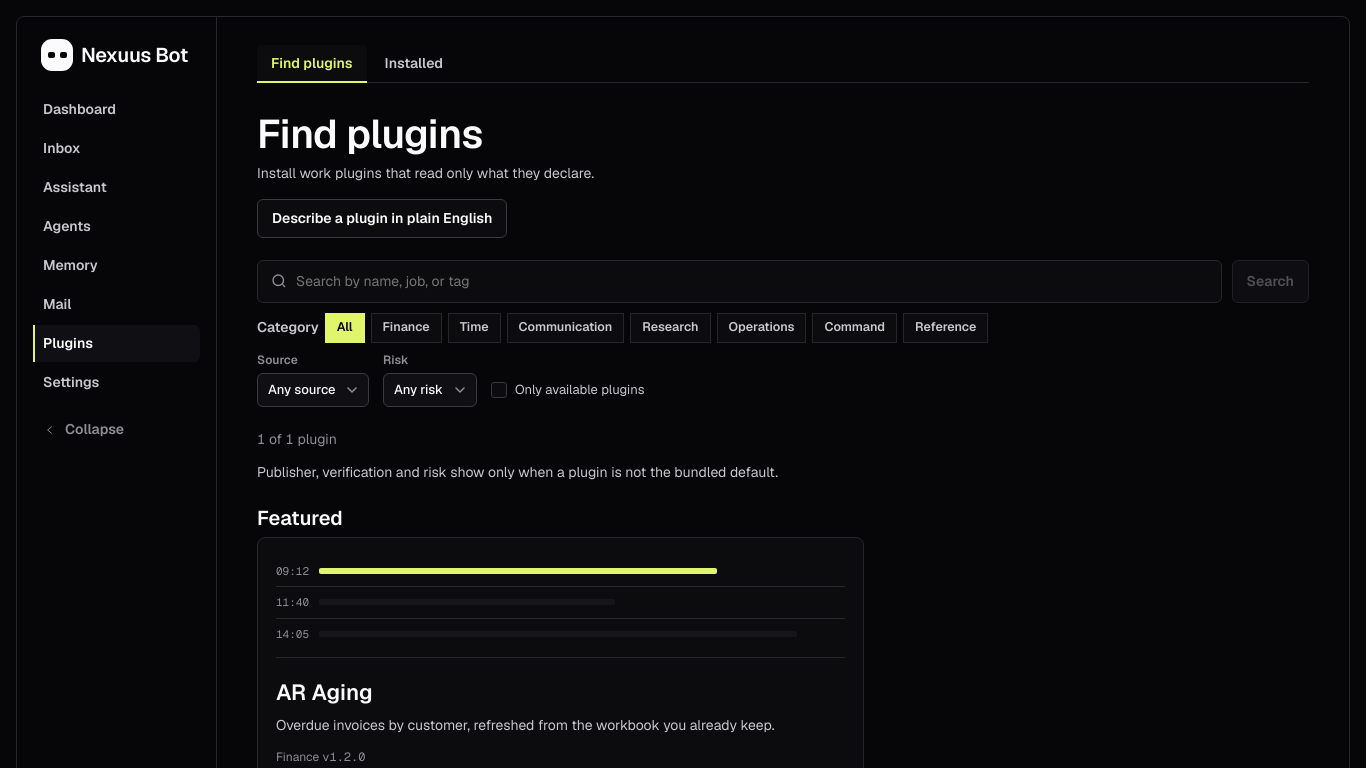
Scenario: the marketplace says every wait (spec 027) › disables Search and names it while the searched catalog reloads
Later steps or results of the test are not shown.
Expected: the text "AR Aging" is shown, [276,678,373,706]
Type "aging" into the search field named "Search plugins" at (752, 281), box [296,261,1209,302]
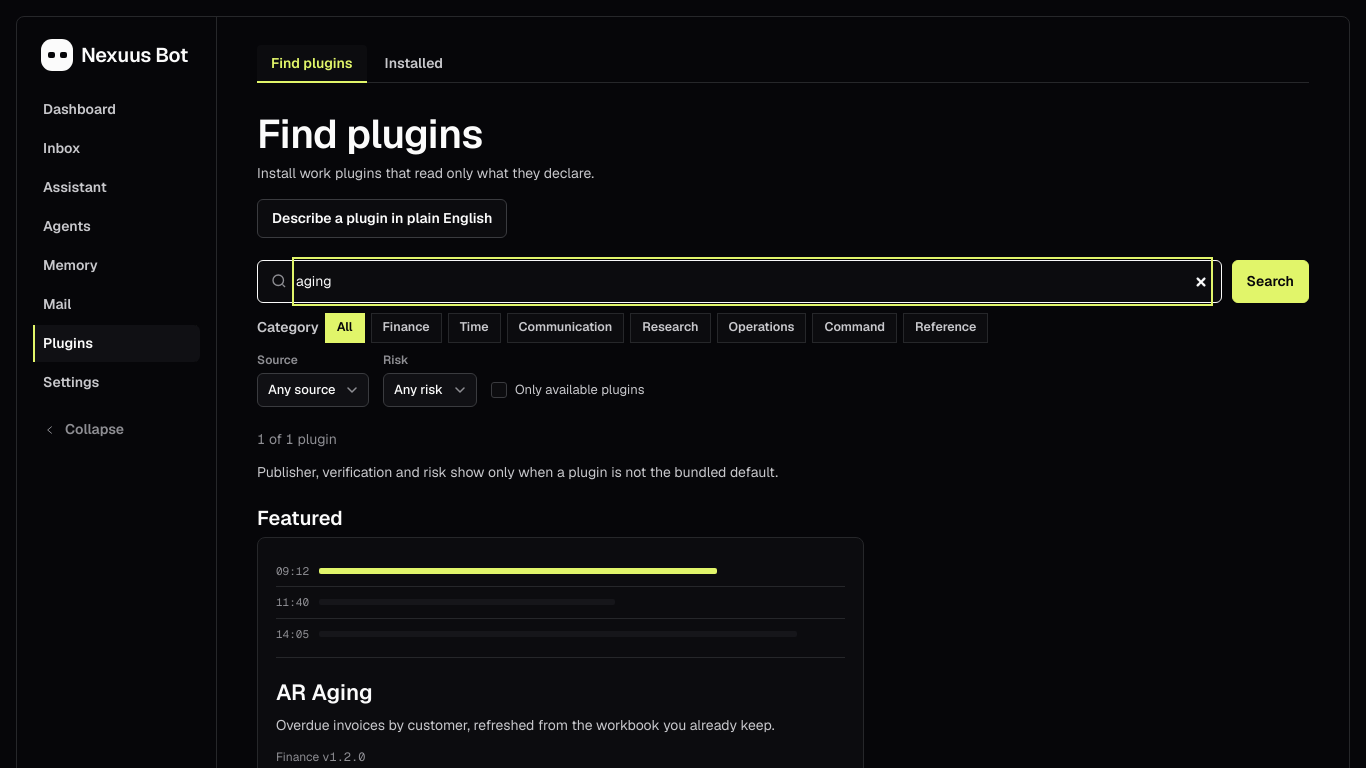
Click the button "Search" at (1270, 281), box [1232,260,1309,303]
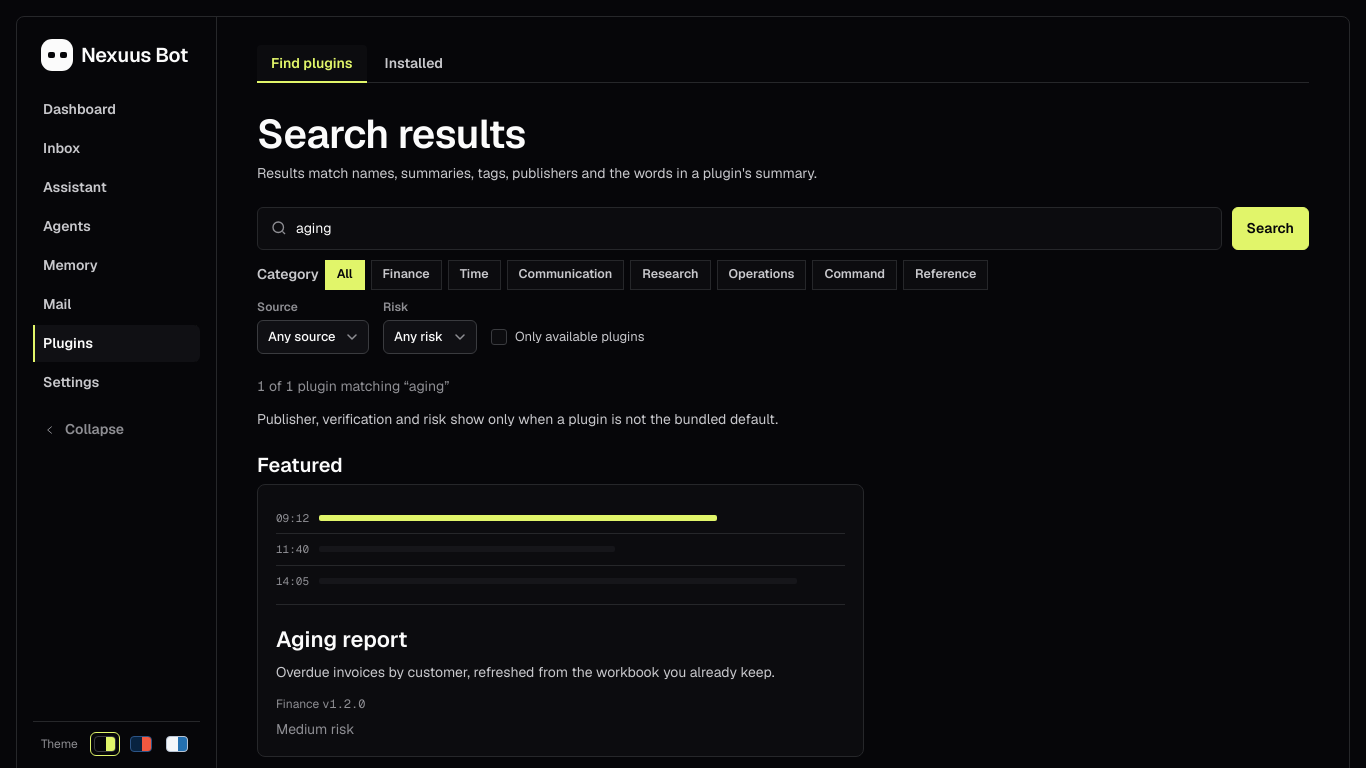
Now the button "Search" is enabled, box [1232,207,1309,250]
Now the text "Aging report" is shown, box [276,625,407,653]
